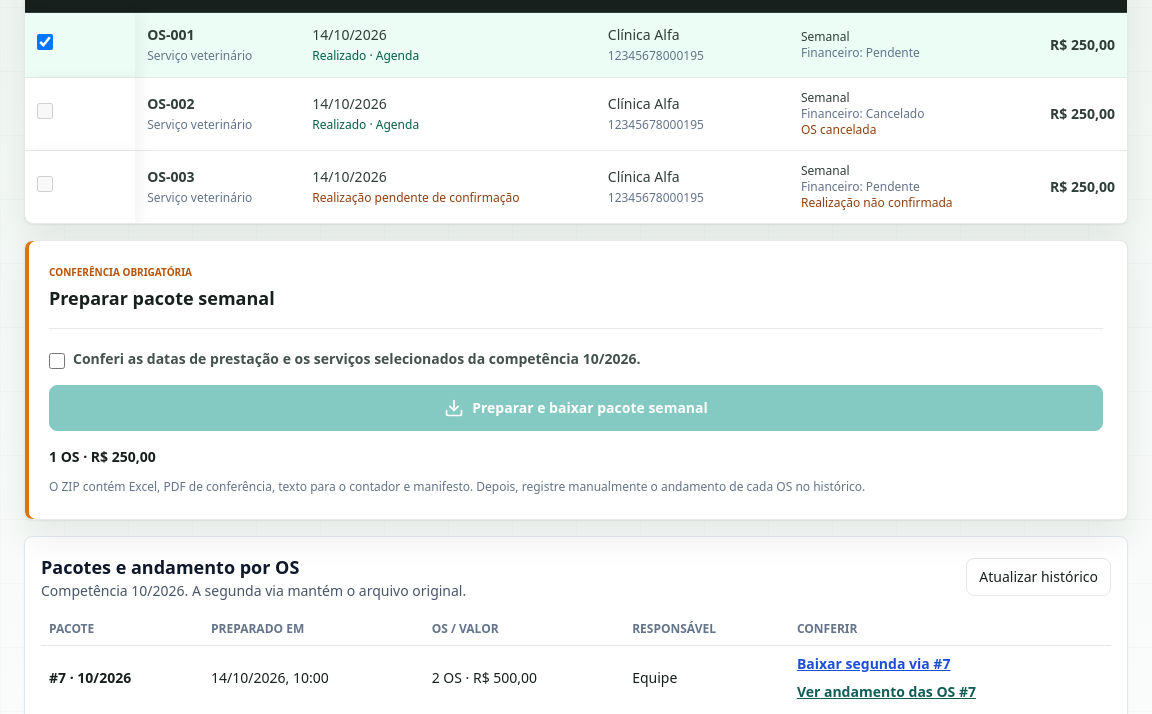
Test: RotinaFiscalPage › inicia semanal no mês atual e prepara somente OS aptas após conferência explícita
(page scrolled)
Expected: the text "OS-001" is shown, [147,24,195,44]
Expected: the checkbox named "Selecionar OS OS-002" is disabled, [37,103,53,119]
Click the checkbox labelled "Conferi as datas de prestação": (57, 360) [49,352,65,368]
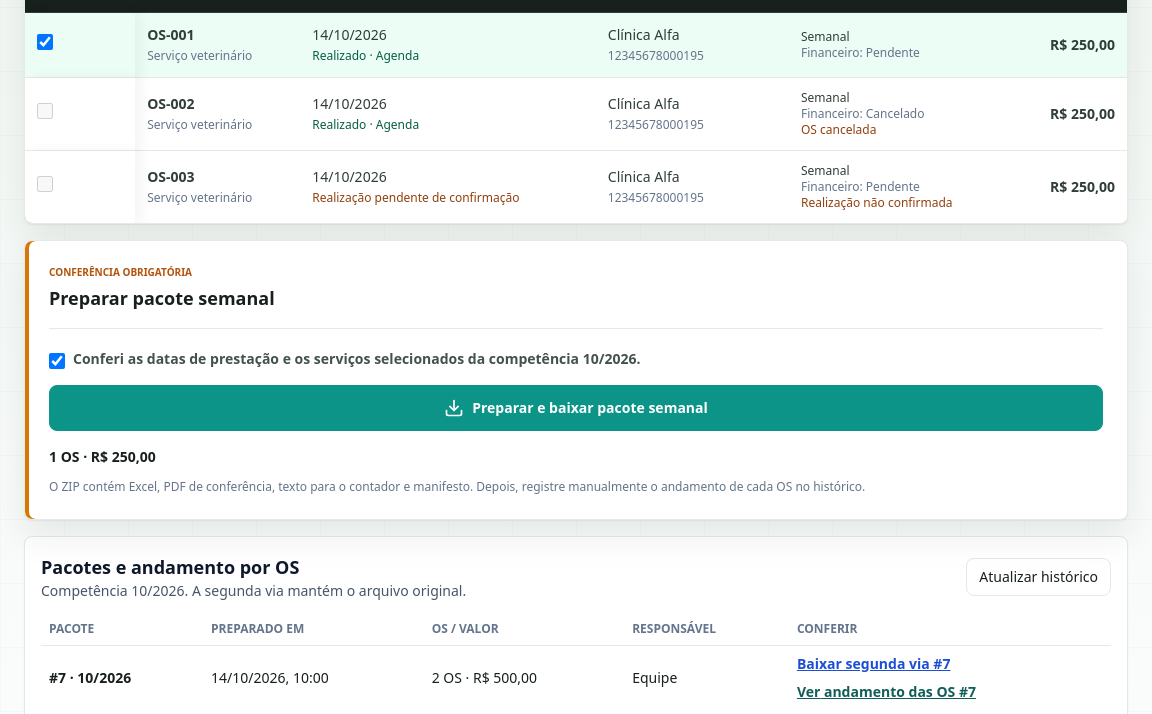
Click the button "Preparar e baixar pacote semanal": (576, 408) [49,384,1103,430]
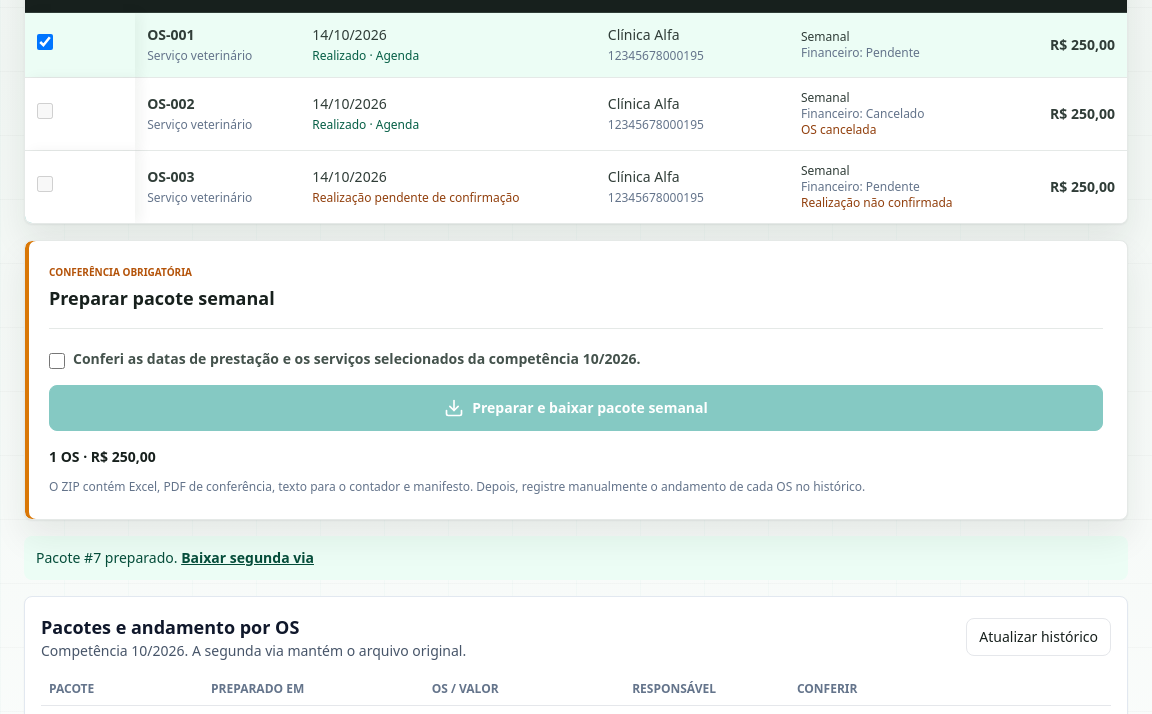
Expected: the text "Pacote #7 preparado. Baixar segunda via" is shown, [24,536,1128,580]
